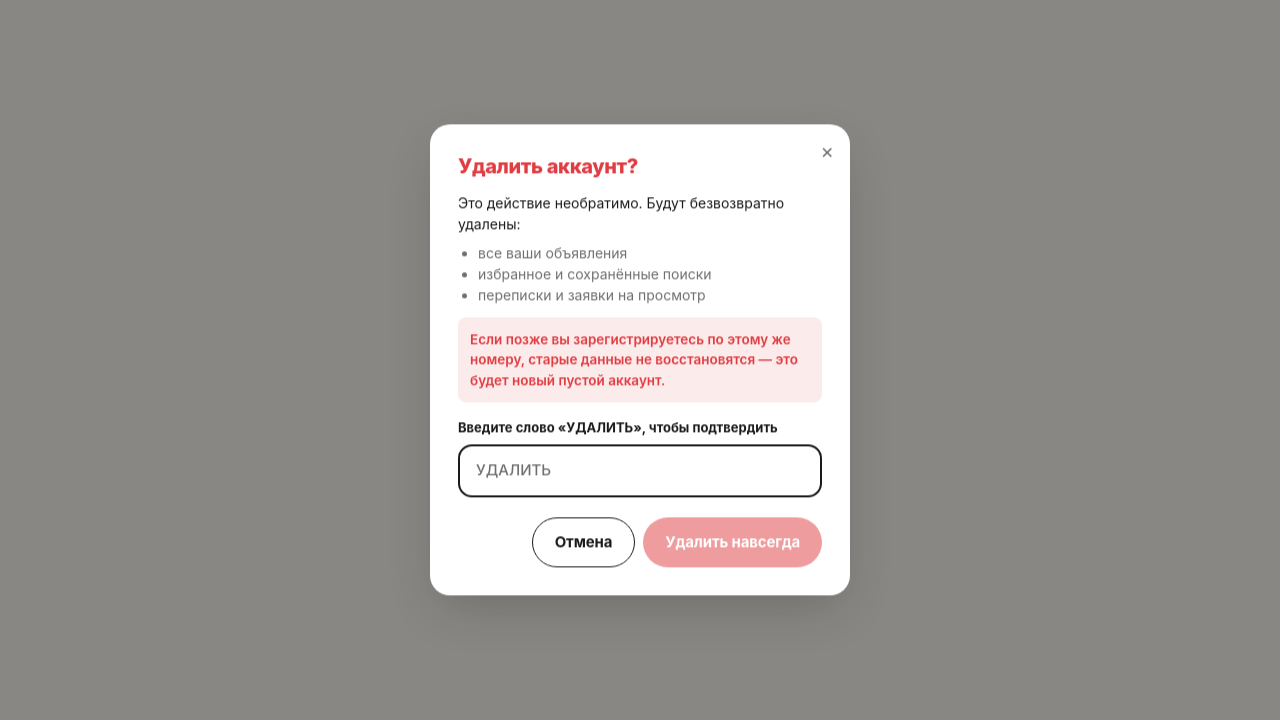
it: DeleteAccountModal › кнопка удаления заблокирована, пока не введено точное слово
Expected: the button "Удалить навсегда" is disabled, [643,517,822,568]
Type "удалить" into the field with placeholder "УДАЛИТЬ" at coordinates (640, 471), box [458,445,822,497]
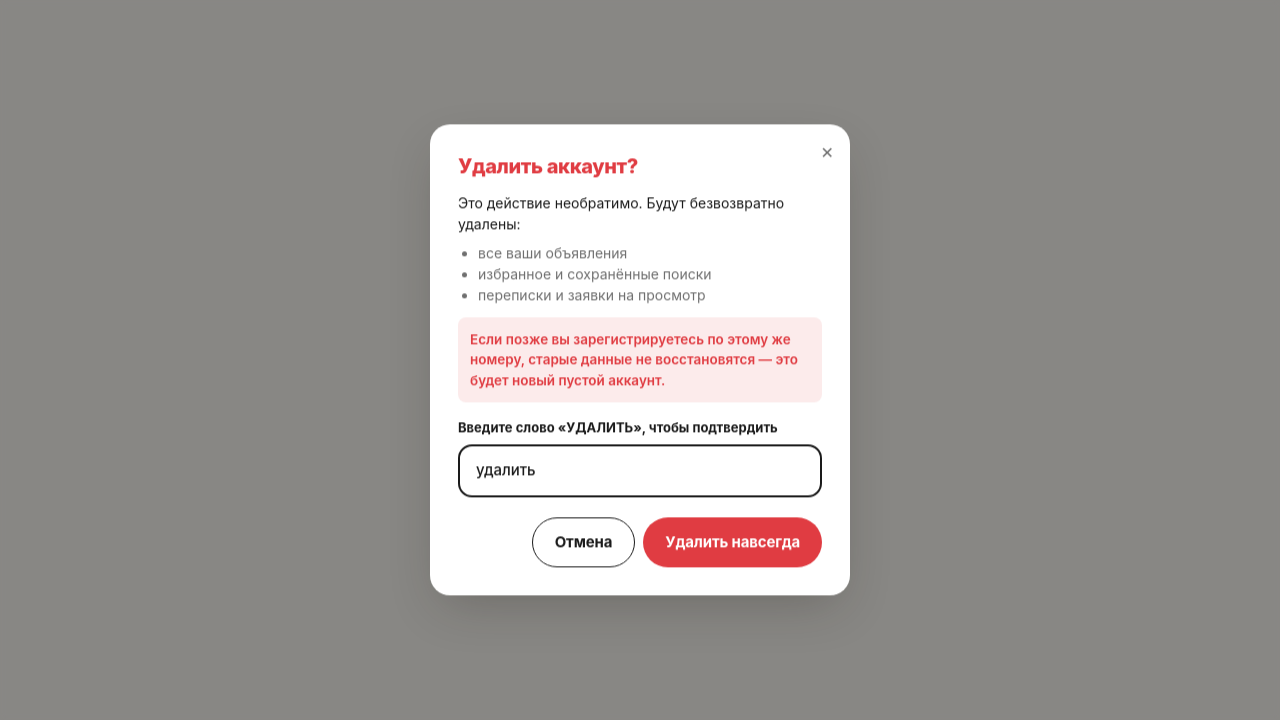
Expected: the button "Удалить навсегда" is enabled, [643,517,822,568]
